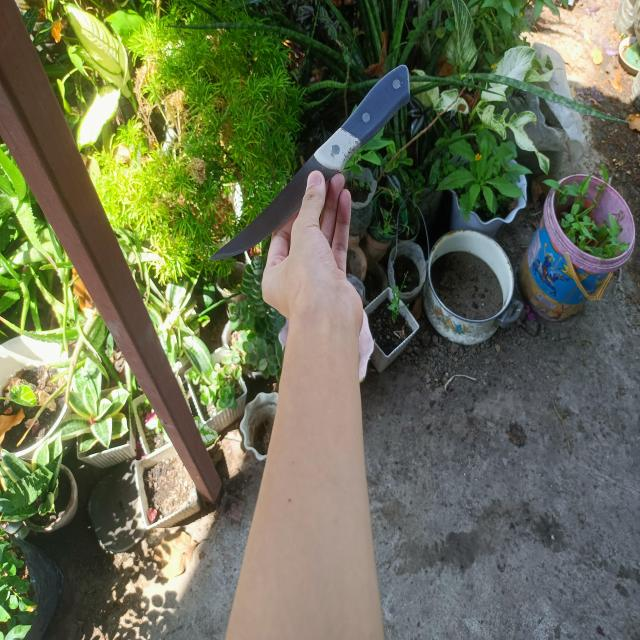knife: (208, 64, 412, 259)
